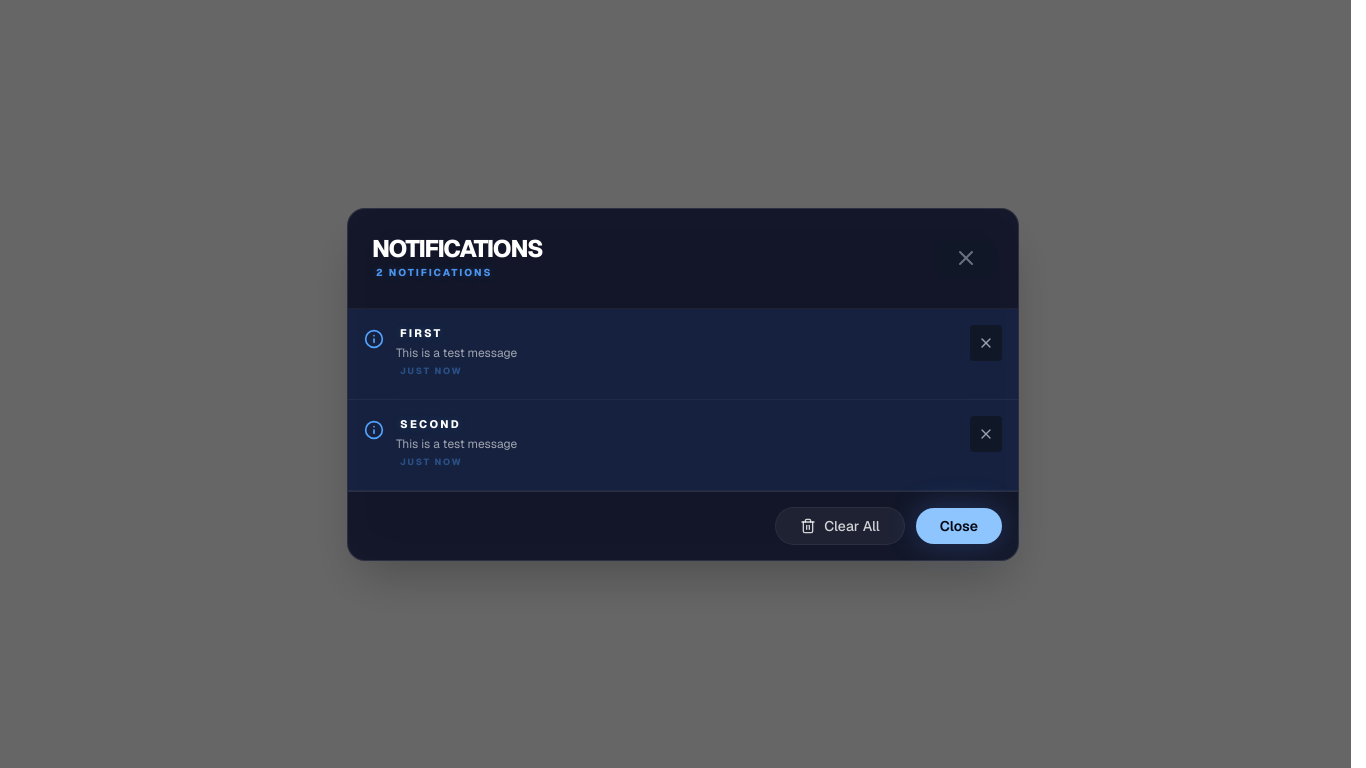
NotificationModal › clearing all notifications › clears all notifications from UI when Clear All clicked
Expected: the heading "First" is shown, [400,326,442,340]
Click the button "Clear All" at (840, 526), box [776,508,904,544]
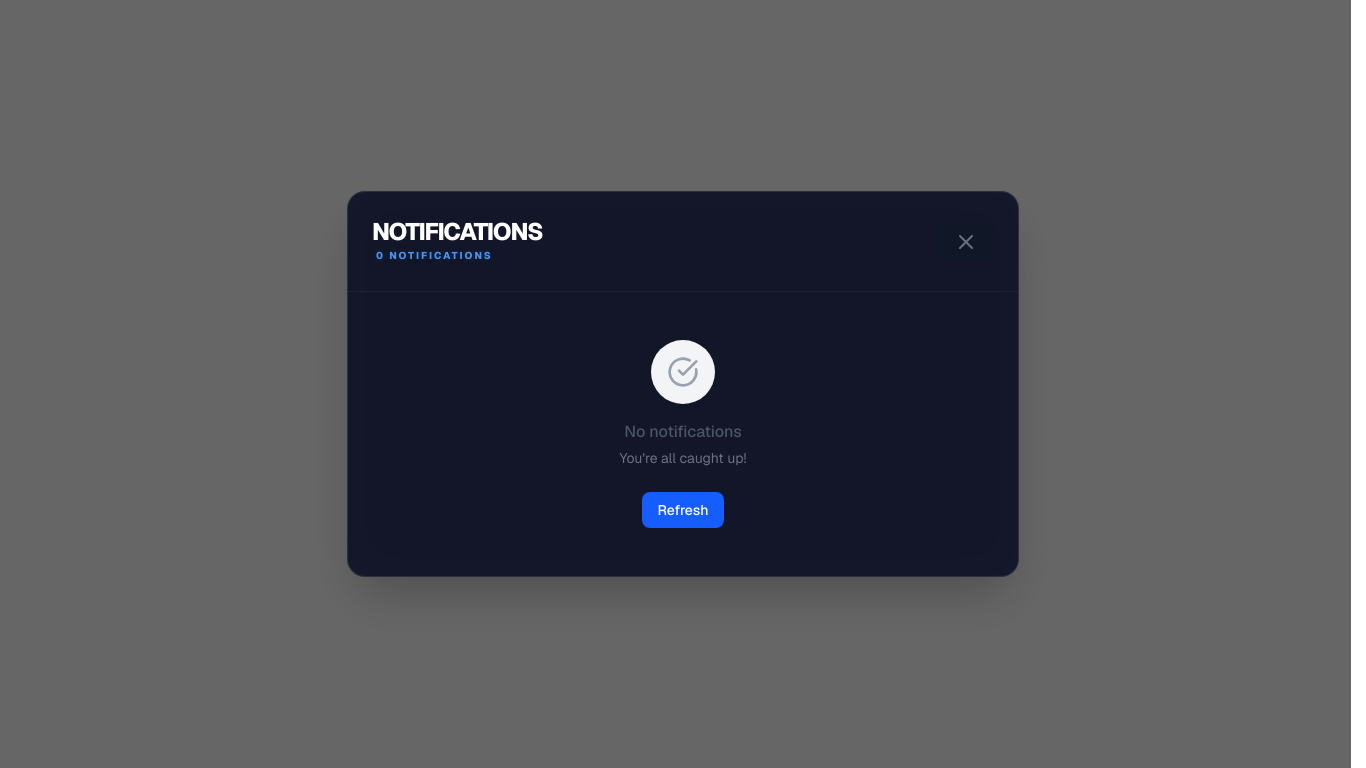
Expected: the heading "First" is gone
Expected: the heading "Second" is gone
